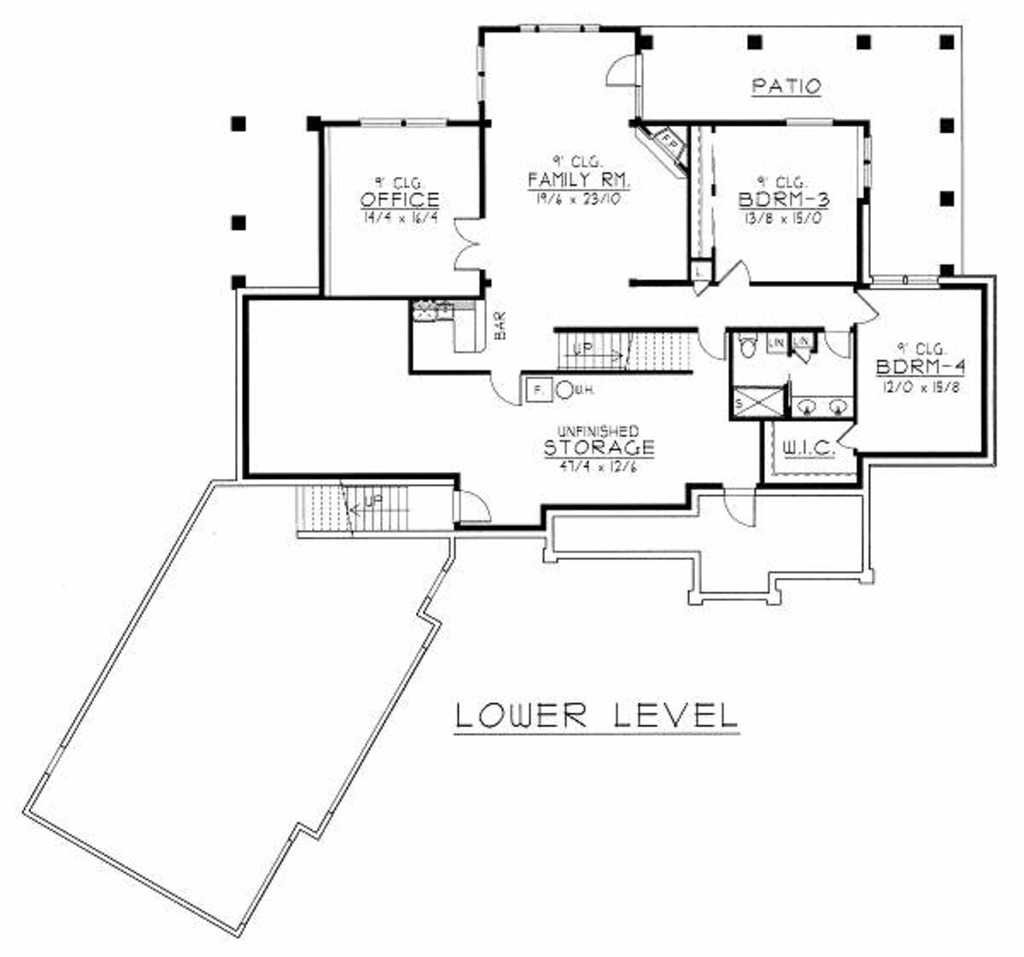door: (439, 209, 496, 278), (711, 474, 775, 534), (715, 250, 770, 303), (481, 356, 528, 415), (596, 50, 658, 90), (840, 283, 892, 324), (453, 477, 498, 523), (824, 327, 867, 356), (698, 327, 733, 361), (836, 418, 873, 450)
large_sink: (734, 318, 767, 365)
small_sink: (781, 390, 850, 415)
stairs: (286, 475, 458, 531), (550, 318, 689, 374)
window: (502, 15, 614, 42), (353, 111, 458, 136), (777, 103, 849, 136), (878, 264, 946, 292), (471, 39, 493, 112), (858, 128, 881, 193)
